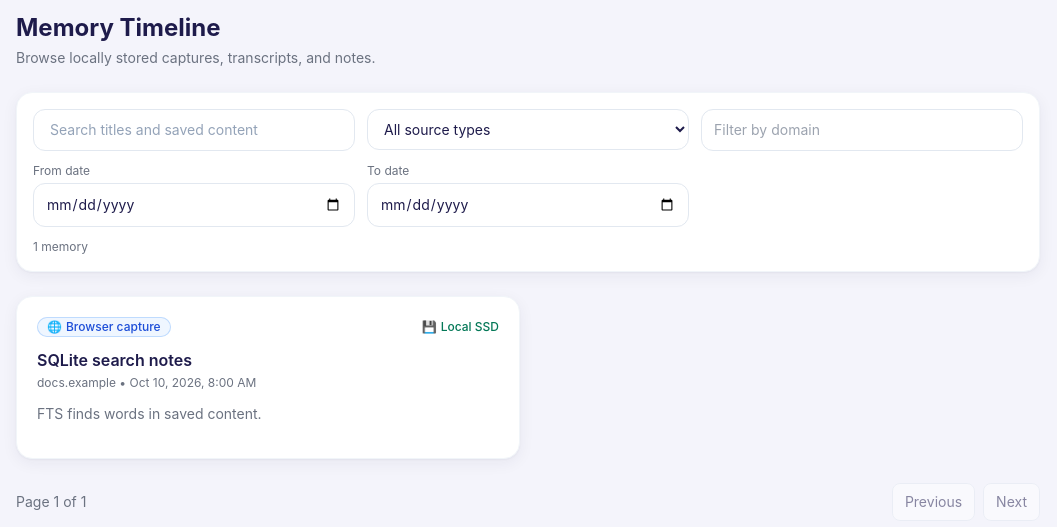
Scenario: Memory Timeline › shows a no-results state for a filtered query
Expected: the heading "SQLite search notes" is shown, [37,350,192,370]
In the search field named "Search memories": (194, 130) [33,109,355,151], type "nothing matches"
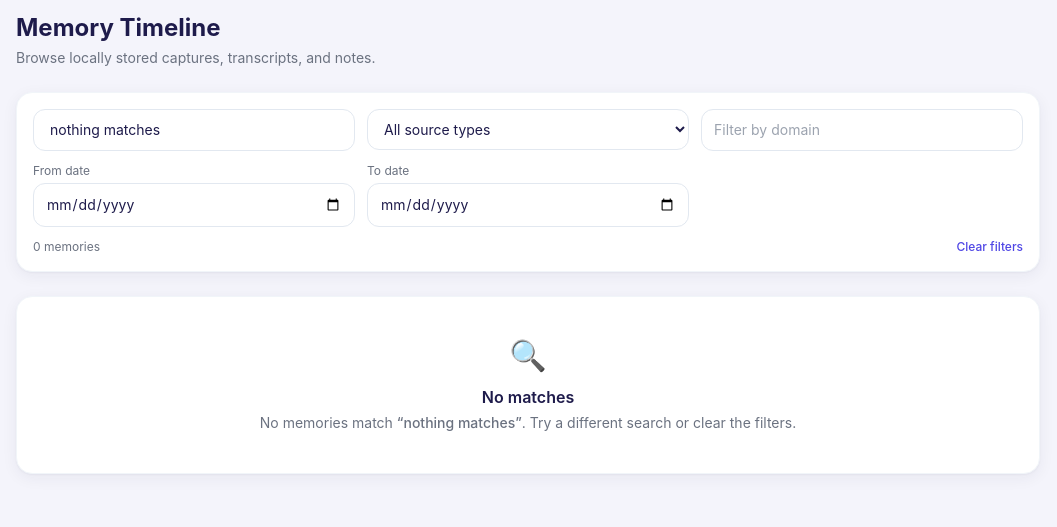
Now the heading "No matches" is shown, box [482,387,574,407]
